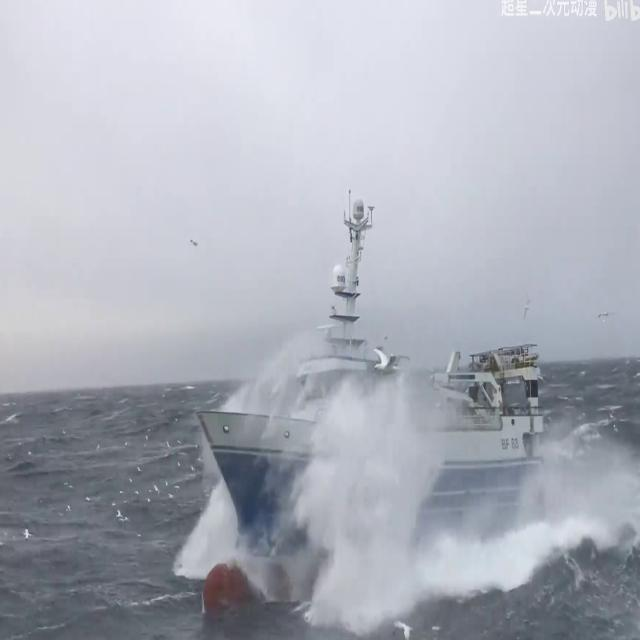houseboat: (193, 188, 535, 566)
